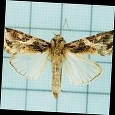Spodoptera litura: (3, 18, 112, 99)
